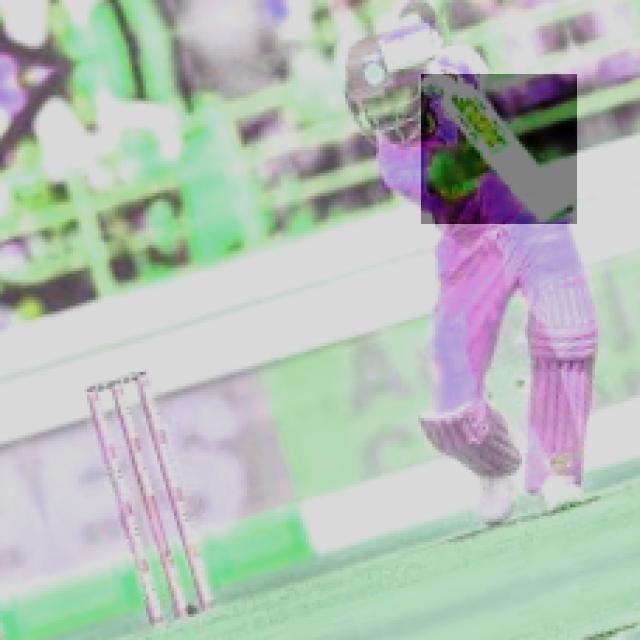bat: (423, 73, 575, 223)
toe: (537, 203, 575, 223)
